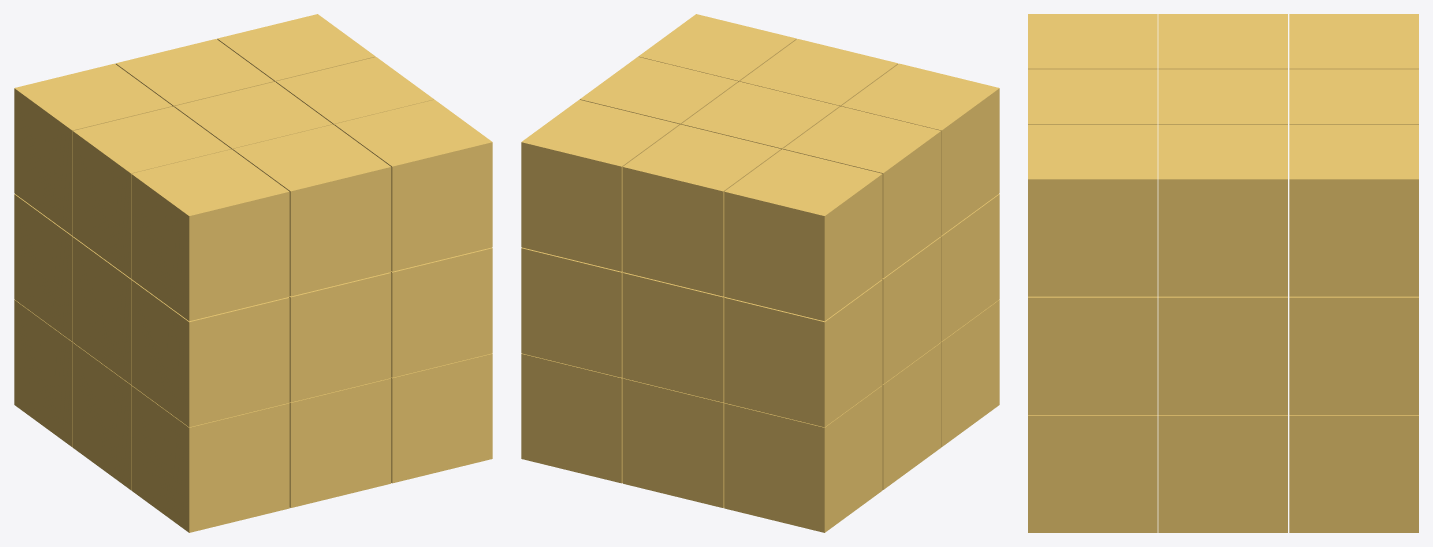
File: Level1-2-Big-Box.fbx
The picture shows the model from 3 angles, left to right: view 1: azimuth 30°, elevation 25°; view 2: azimuth 150°, elevation 25°; view 3: azimuth 270°, elevation 25°; orthographic projection. The views are drawn at different scales.
Visible parts, largest first — view 1: Cube.019, Cube.010, Cube, Cube.020, Cube.021, Cube.022, Cube.025, Cube.011, Cube.002, Cube.012, Cube.003, Cube.013 (+7 smaller); view 2: Cube.025, Cube.016, Cube.007, Cube.026, Cube.027, Cube.022, Cube.019, Cube.017, Cube.008, Cube.018, Cube.009, Cube.013 (+7 smaller); view 3: Cube.021, Cube.024, Cube.027, Cube.012, Cube.015, Cube.018, Cube.003, Cube.006, Cube.009, Cube.019, Cube.020, Cube.022 (+3 smaller).
Part boxes in pixels (x1,y1,x2,y2): Cube.019: (131,149,289,321); Cube.010: (131,279,289,427); Cube: (131,385,289,532); Cube.020: (232,124,391,296); Cube.021: (334,99,492,271); Cube.022: (72,106,230,278); Cube.025: (14,63,172,235); Cube.011: (289,272,391,402); Cube.002: (289,378,391,507); Cube.012: (391,247,492,377); Cube.003: (391,353,492,483); Cube.013: (72,237,131,384); Cube.025: (724,149,882,321); Cube.016: (724,279,882,427); Cube.007: (724,385,882,532); Cube.026: (622,124,781,296); Cube.027: (521,99,679,271); Cube.022: (783,106,941,278); Cube.019: (841,63,999,235); Cube.017: (622,272,724,402); Cube.008: (622,378,724,507); Cube.018: (521,247,622,377); Cube.009: (521,353,622,483); Cube.013: (882,236,941,384); Cube.021: (1028,124,1157,296); Cube.024: (1158,124,1287,296); Cube.027: (1289,124,1418,296); Cube.012: (1028,296,1157,414); Cube.015: (1158,296,1287,414); Cube.018: (1289,296,1418,414); Cube.003: (1028,415,1157,532); Cube.006: (1158,415,1287,532); Cube.009: (1289,415,1418,532); Cube.019: (1028,14,1157,69); Cube.020: (1028,69,1157,124); Cube.022: (1158,14,1287,69).
Size of the model in its own units: 949 by 947 by 948.
